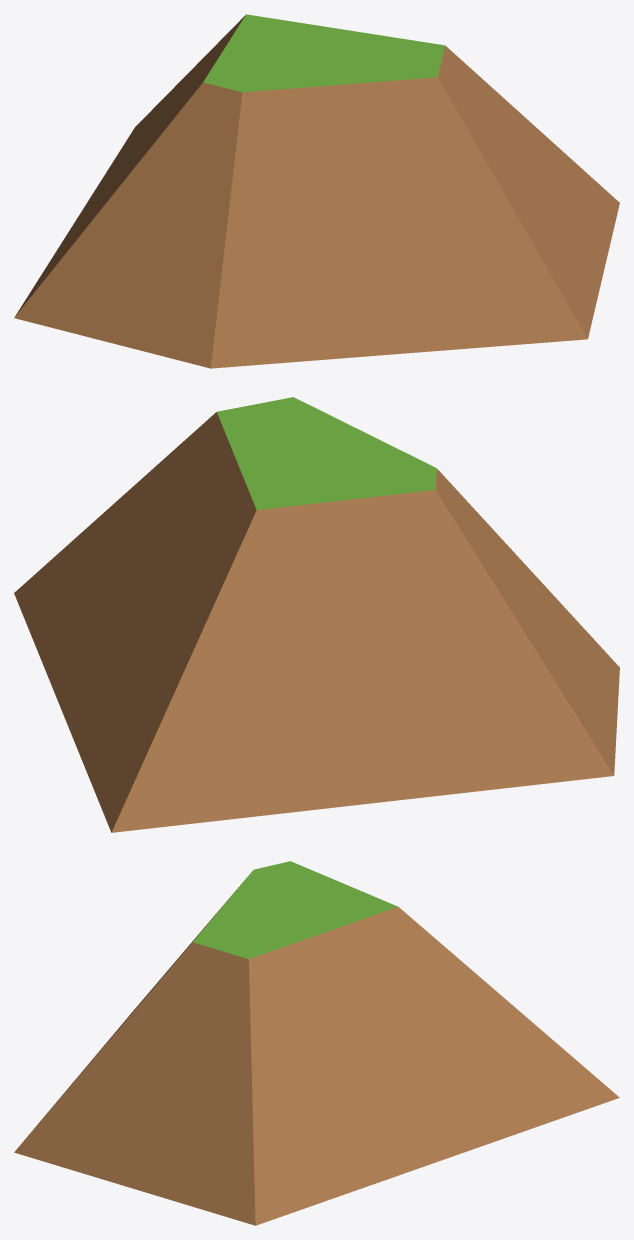
File: rock_smallC.glb
3 views of the same model, one above another, from view 1: azimuth 30°, elevation 25°; view 2: azimuth 150°, elevation 25°; view 3: azimuth 270°, elevation 25° (orthographic). The views are drawn at different scales.
Visible parts, largest first — view 1: rock_smallC; view 2: rock_smallC; view 3: rock_smallC.
Boxes of the visible parts, x1,y1,x2,y2 form: rock_smallC: (14, 14, 619, 368); rock_smallC: (14, 397, 619, 832); rock_smallC: (14, 861, 619, 1225).
Bounding box in the file's own units: 0.3608 × 0.1227 × 0.3608.
